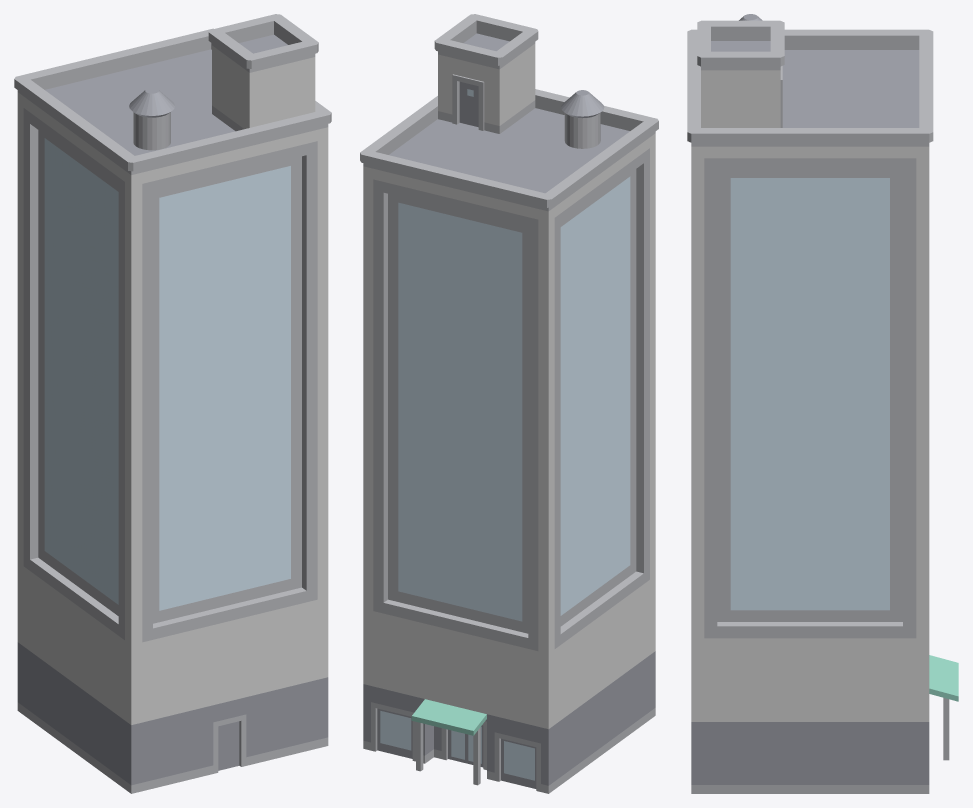
File: randSkyScraper.fbx
The picture shows the model from 3 angles, left to right: view 1: azimuth 30°, elevation 25°; view 2: azimuth 150°, elevation 25°; view 3: azimuth 270°, elevation 25°; orthographic projection. The views are drawn at different scales.
Parts seen in each view (by area): view 1: skyscraperC; view 2: skyscraperC; view 3: skyscraperC.
Boxes of the visible parts, x1=… form: skyscraperC: x1=14, y1=14, x2=331, y2=793; skyscraperC: x1=360, y1=14, x2=658, y2=793; skyscraperC: x1=687, y1=14, x2=958, y2=793.
Bounding box in the file's own units: 124 × 408 × 137.
